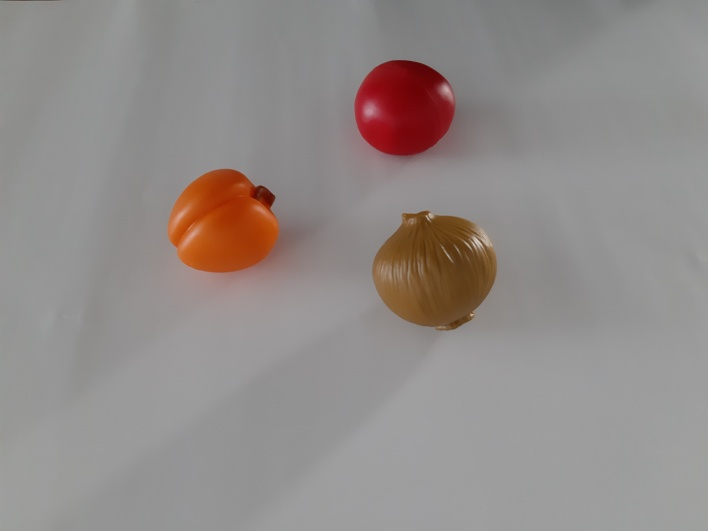apricot: (146, 158, 298, 284)
onion: (360, 197, 519, 345)
tomato: (340, 48, 474, 164)
